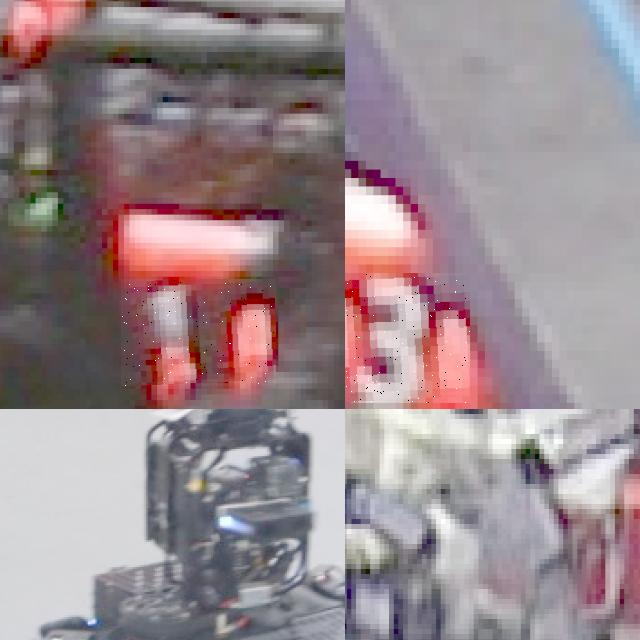R1: (121, 279, 276, 386)
R3: (345, 273, 470, 402)
